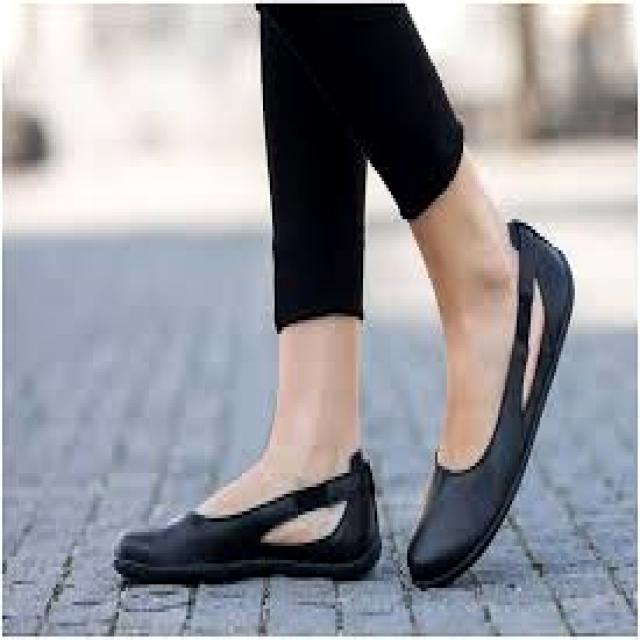foot-wear: (408, 223, 574, 587), (115, 453, 381, 584)
